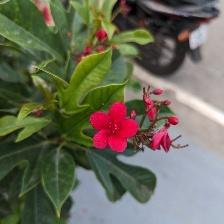jatropha: (90, 102, 140, 155)
